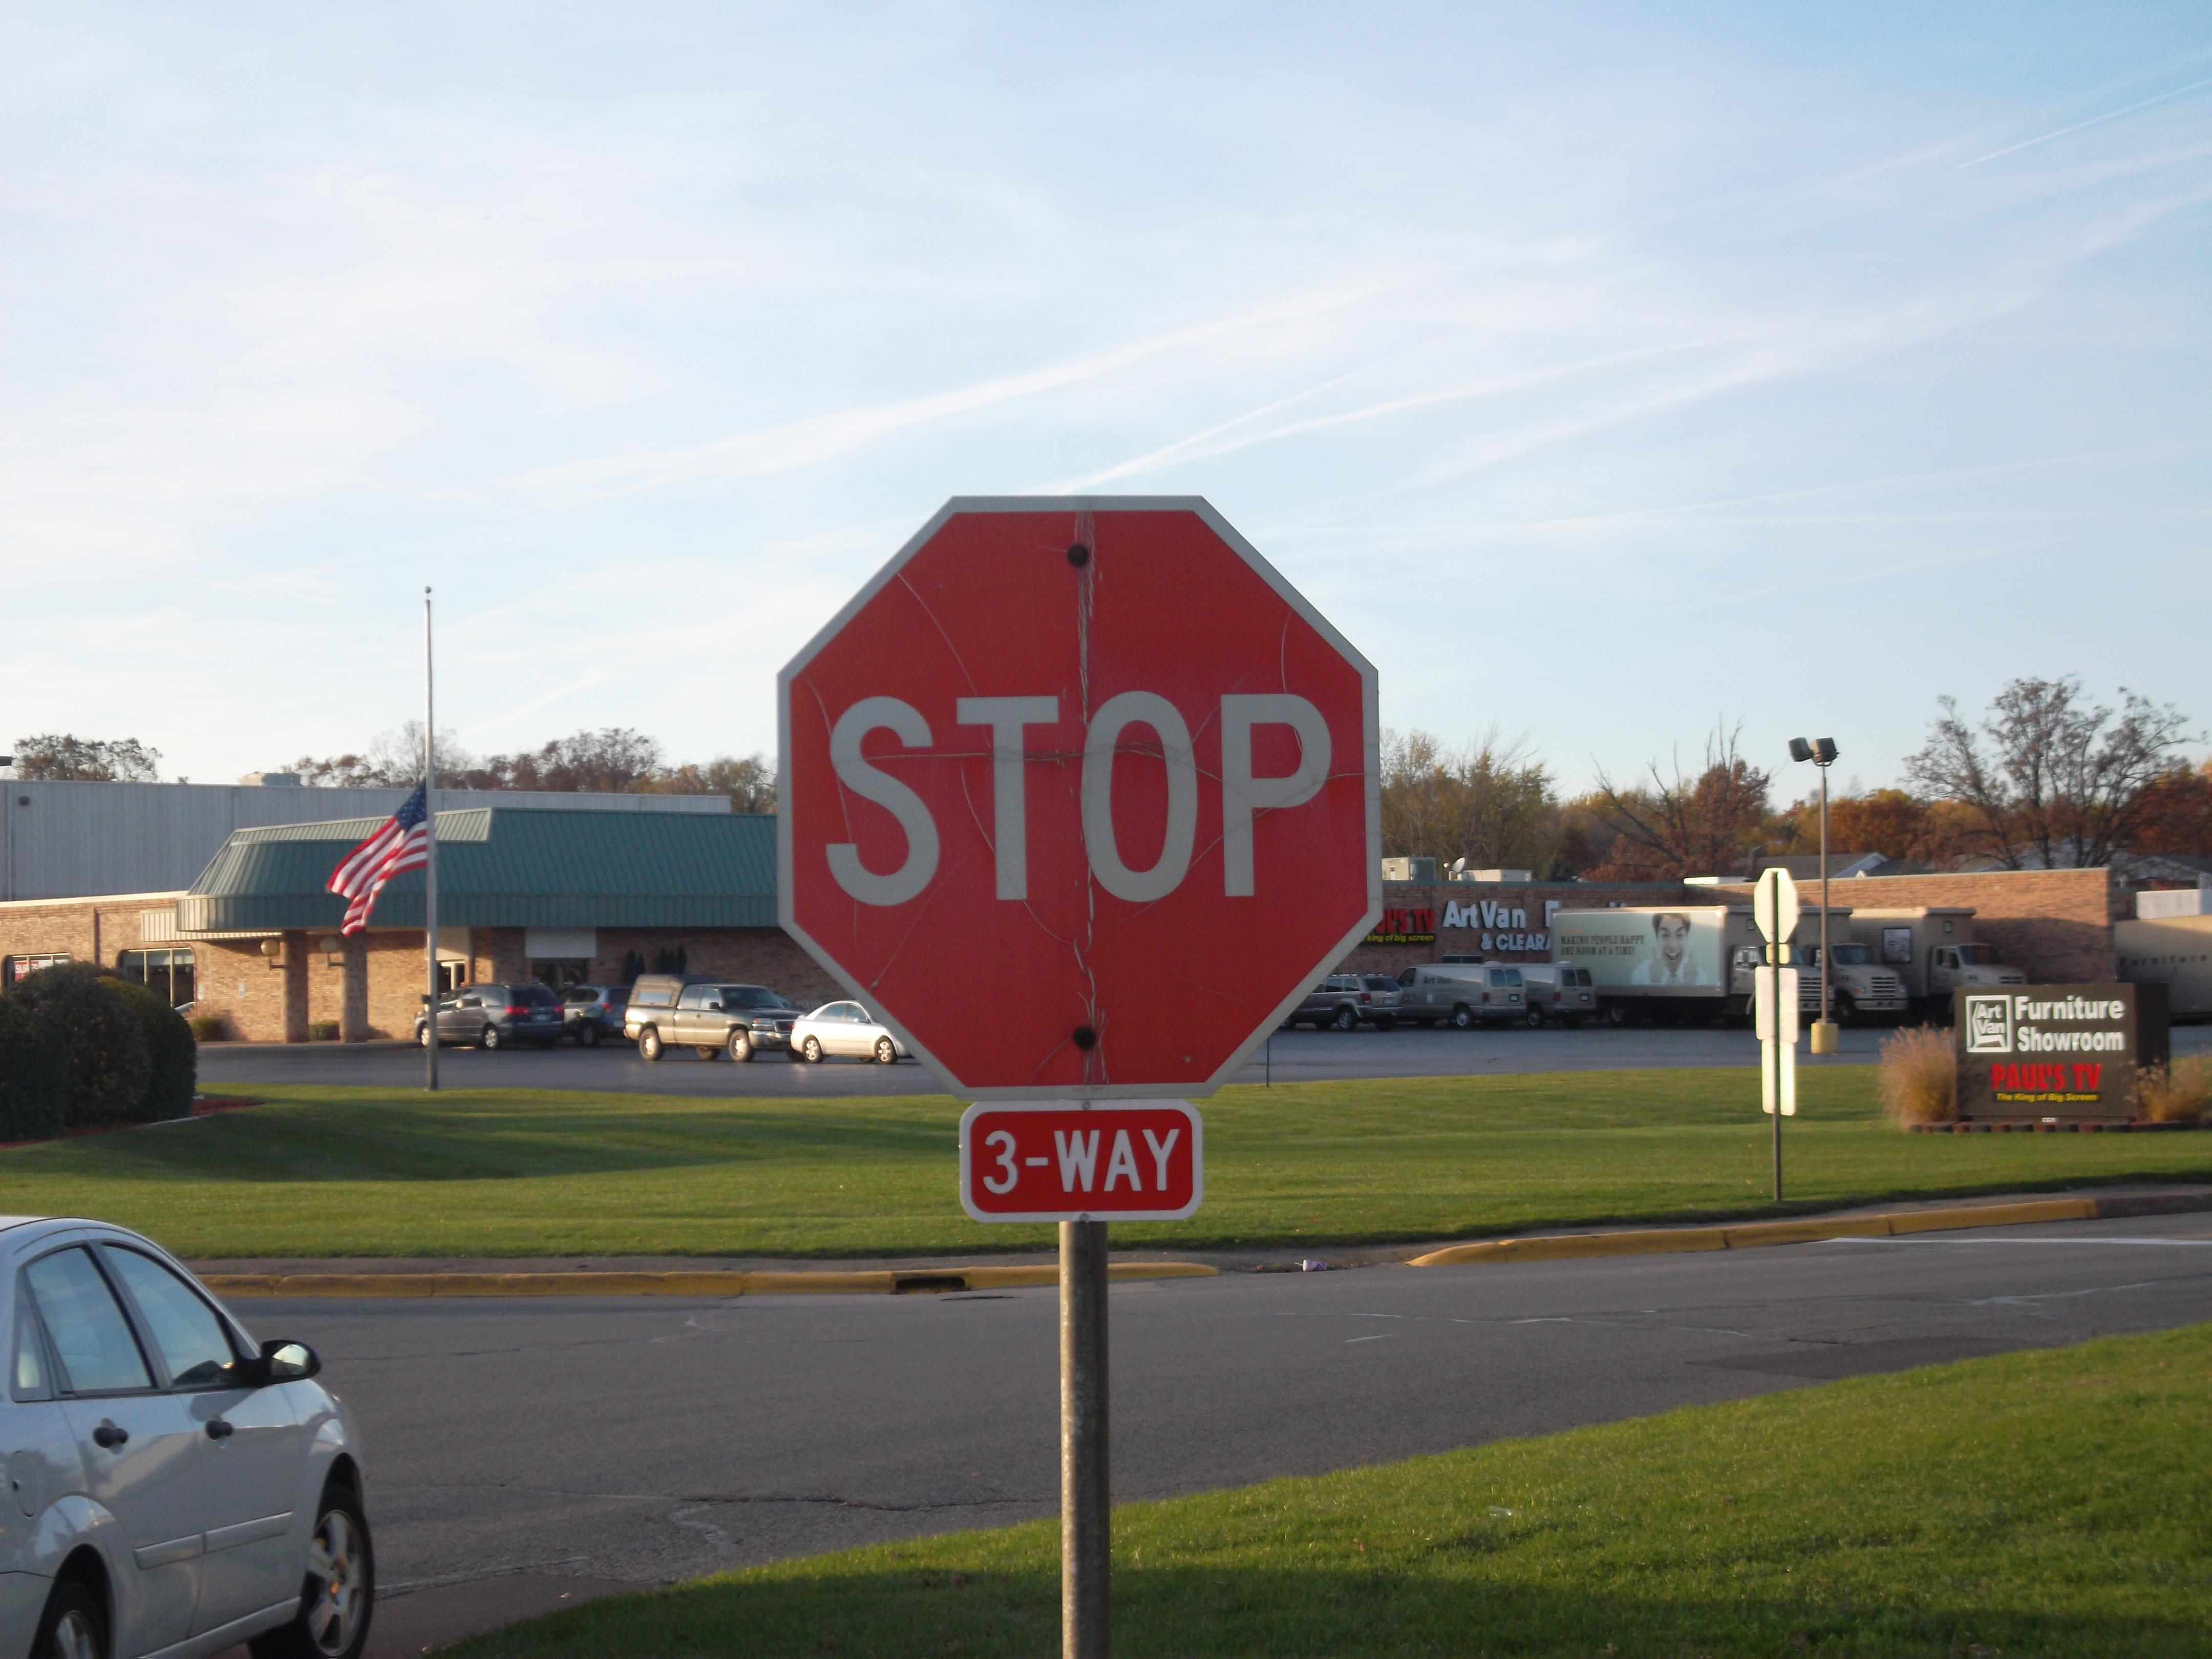stop: (765, 481, 1397, 1107)
